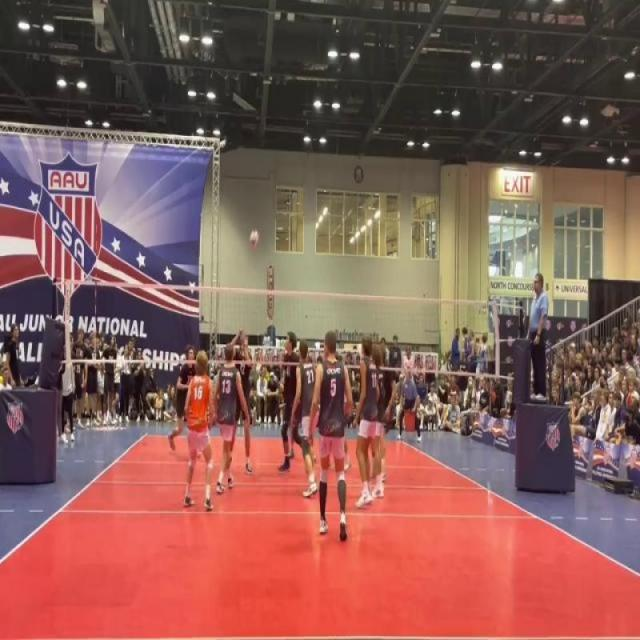volleyball: (248, 228, 260, 250)
